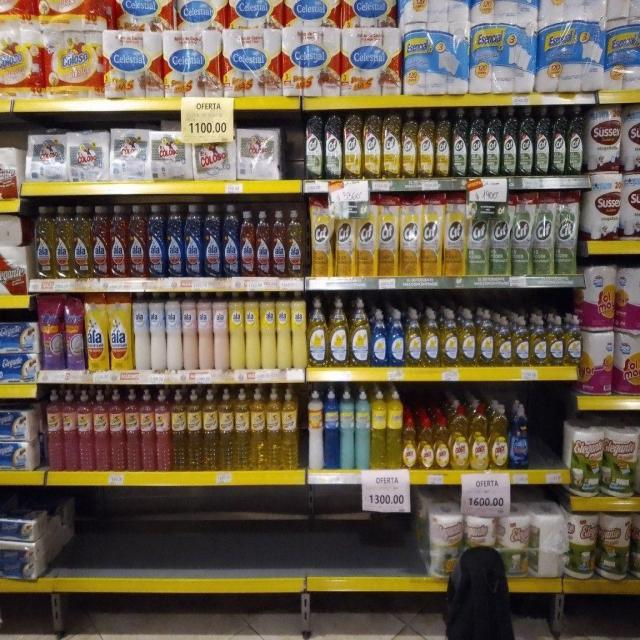ala_conc_amarillo: (33, 204, 54, 280), (73, 205, 91, 279), (54, 205, 72, 279), (287, 210, 305, 278)
ala_conc_azul: (203, 203, 221, 278), (184, 203, 202, 278), (147, 203, 165, 278), (166, 203, 183, 278), (222, 204, 239, 278)
ala_conc_rojo: (128, 203, 146, 278), (109, 204, 127, 278), (92, 205, 108, 278), (239, 210, 255, 277), (272, 210, 286, 278), (256, 210, 270, 277)
ala_crem_amarillo: (260, 289, 276, 370), (291, 290, 307, 369), (276, 290, 291, 370), (245, 291, 260, 370), (230, 291, 244, 370)
ala_crem_blanco: (133, 291, 149, 370), (150, 291, 165, 371), (166, 291, 181, 371)
ala_crem_rosado: (198, 291, 213, 371), (182, 292, 197, 372), (214, 291, 228, 371)
ala_sachet_amarillo: (109, 292, 132, 371), (86, 292, 108, 371)
cif_conc_bot_amarilla: (382, 109, 401, 179), (343, 112, 362, 179), (363, 111, 381, 179), (435, 107, 451, 178), (418, 108, 434, 178), (402, 108, 417, 179)
cif_conc_botella_verde: (567, 104, 584, 176), (305, 112, 323, 180), (324, 113, 342, 179), (452, 106, 468, 178), (534, 105, 550, 176), (518, 105, 534, 176), (485, 106, 501, 176), (469, 106, 484, 178), (551, 105, 566, 176), (502, 105, 517, 176)
cif_conc_sachet_amarillo: (444, 192, 466, 277), (310, 197, 333, 278), (399, 195, 420, 277), (422, 194, 442, 277), (356, 198, 377, 277), (378, 195, 398, 277), (334, 199, 355, 277)
cif_conc_sachet_verde: (555, 191, 579, 275), (533, 192, 555, 276), (511, 193, 532, 276), (467, 197, 489, 276), (490, 198, 511, 276)
drive: (40, 293, 64, 371), (64, 294, 84, 371)
heroe: (282, 386, 300, 470), (266, 385, 282, 470), (234, 388, 250, 471), (251, 386, 266, 470), (308, 386, 323, 470), (203, 388, 218, 471), (219, 388, 234, 471), (187, 389, 202, 471)
magistral_con_amarillo: (328, 296, 348, 368), (308, 296, 328, 368), (350, 298, 370, 368), (422, 308, 440, 368), (440, 309, 458, 367), (405, 308, 422, 367), (459, 309, 476, 367), (564, 313, 582, 366), (477, 311, 494, 367), (495, 315, 512, 367), (530, 316, 547, 366), (548, 314, 564, 366), (513, 316, 529, 366)
magistral_con_azul: (371, 308, 387, 368), (388, 308, 404, 368)
odex: (489, 402, 509, 470), (469, 401, 488, 470), (450, 403, 469, 470), (418, 416, 434, 470), (434, 413, 449, 470), (402, 414, 417, 469)
